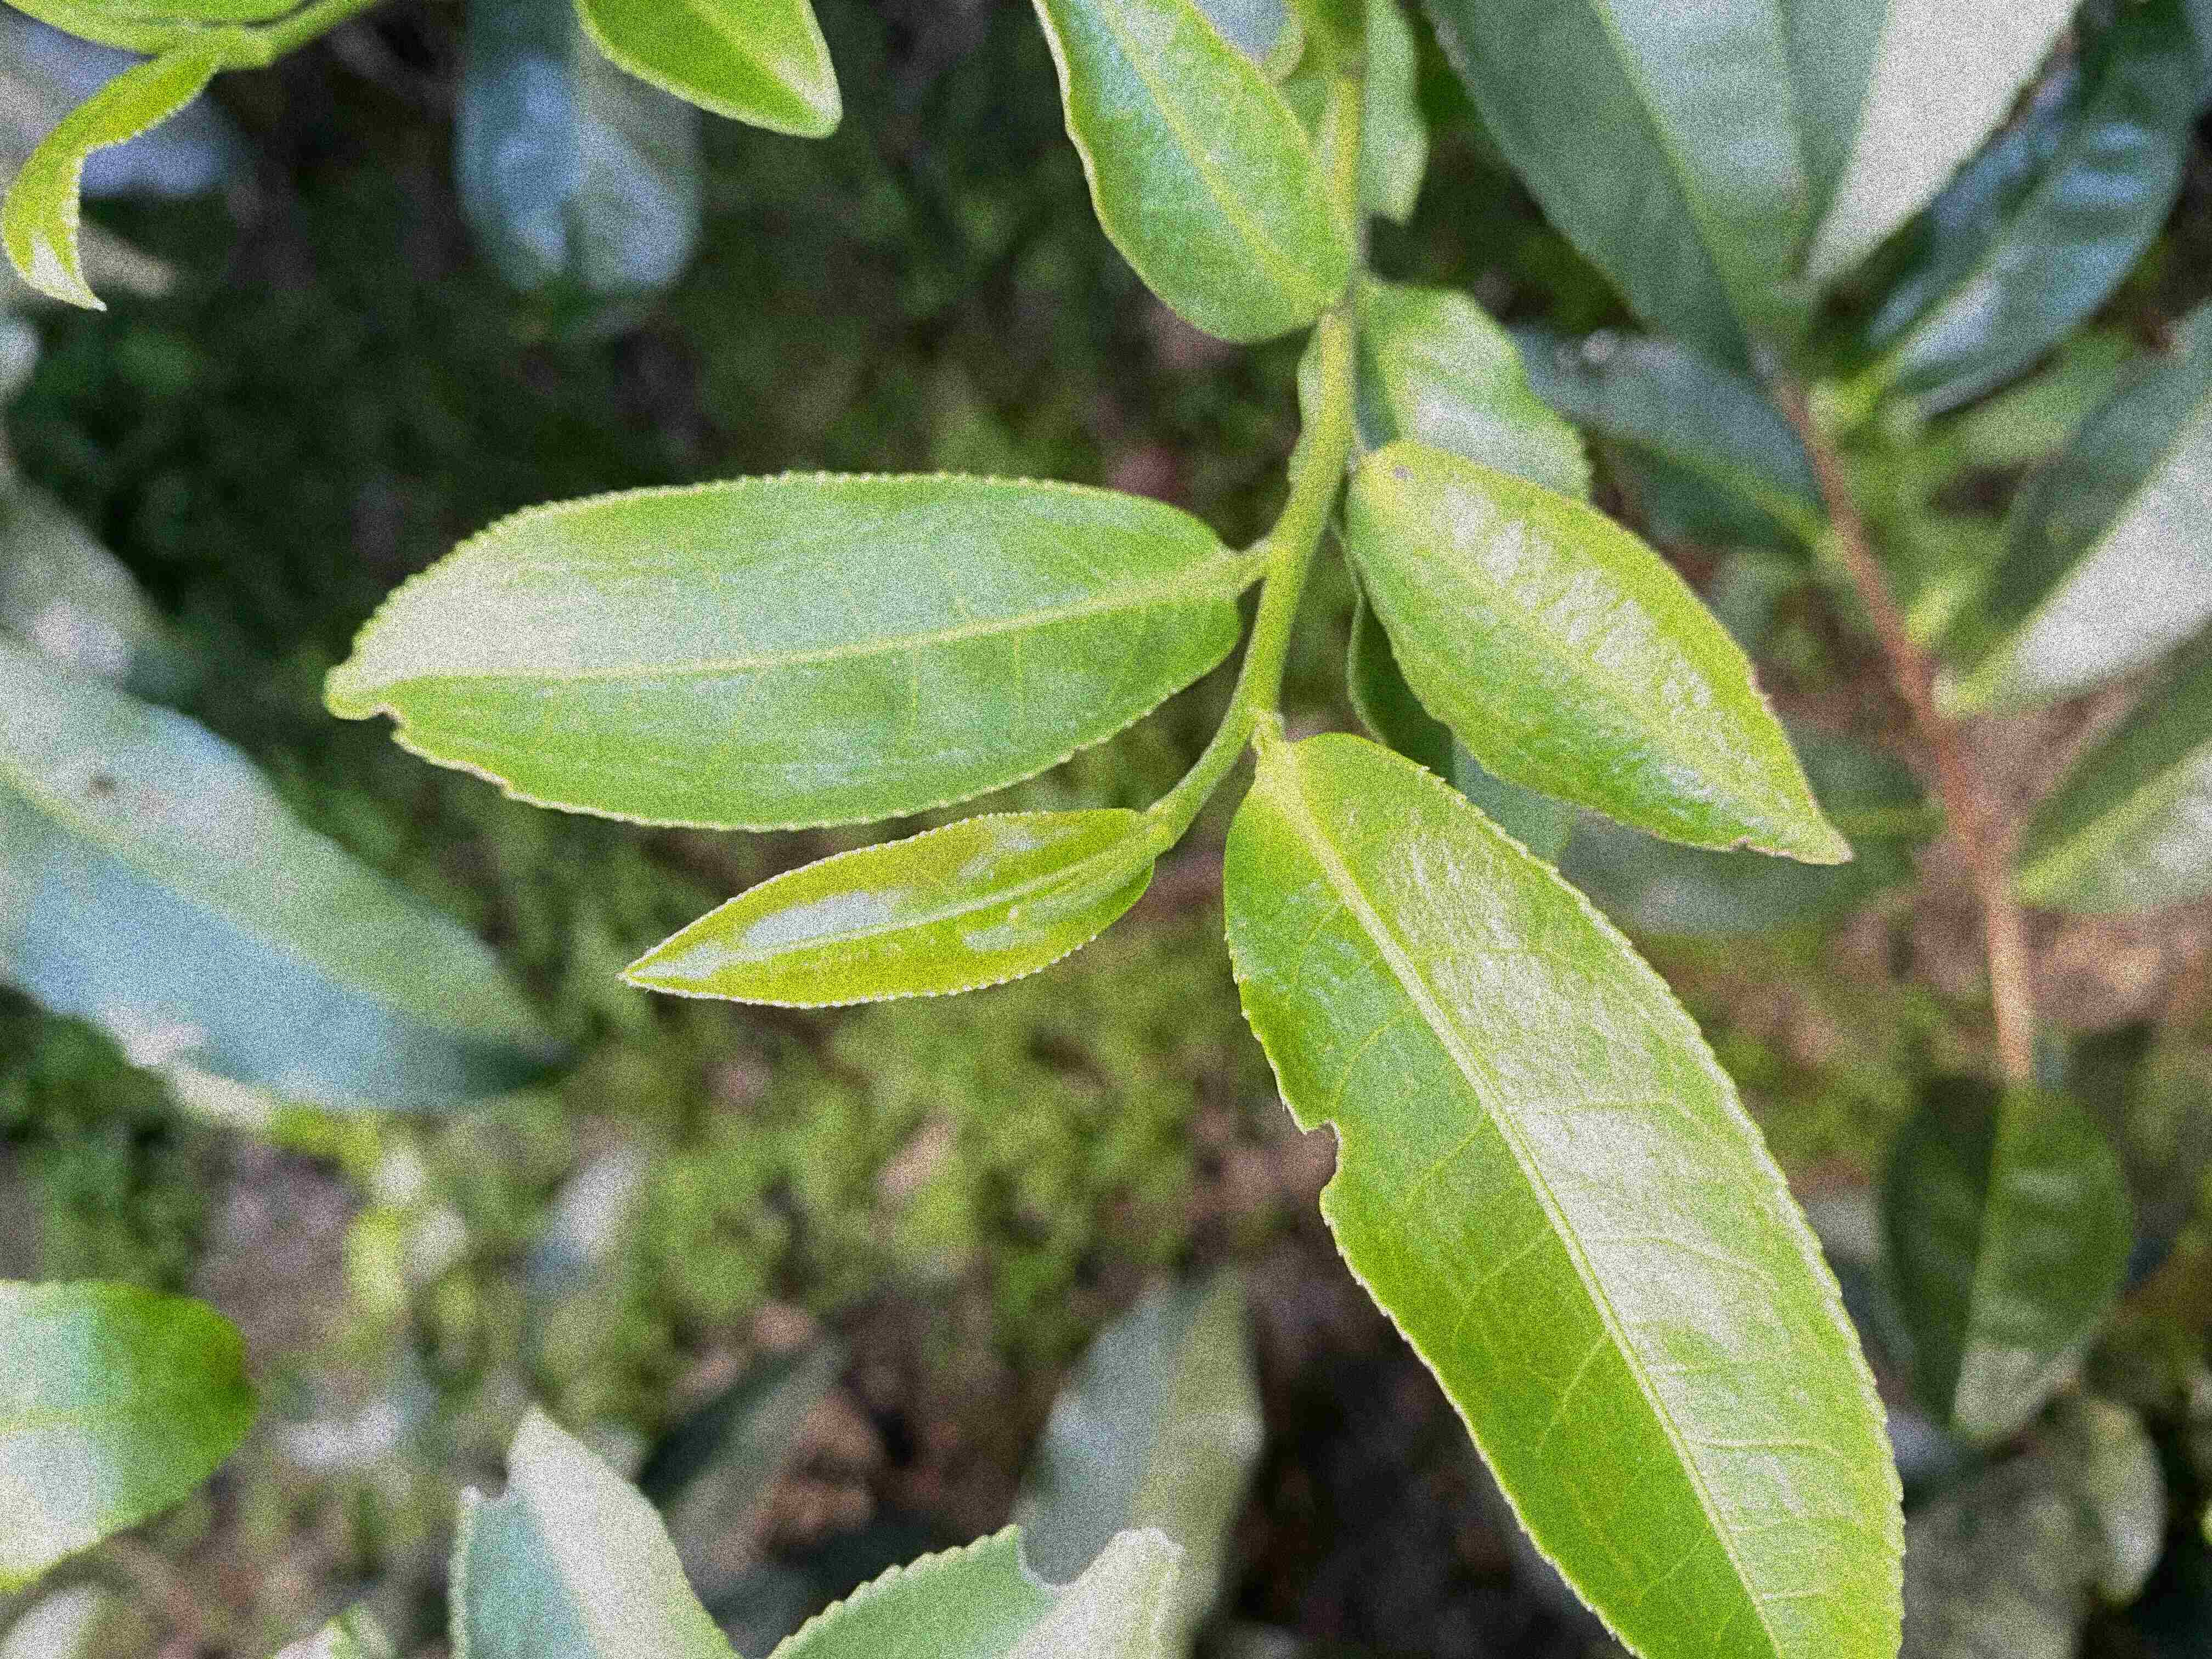chihuo_low: (1217, 730, 1911, 1657), (319, 465, 1245, 833), (441, 1401, 751, 1656), (765, 1520, 1190, 1657)
healthy: (615, 807, 1155, 1012)
tanju_low: (1343, 434, 1857, 868)
